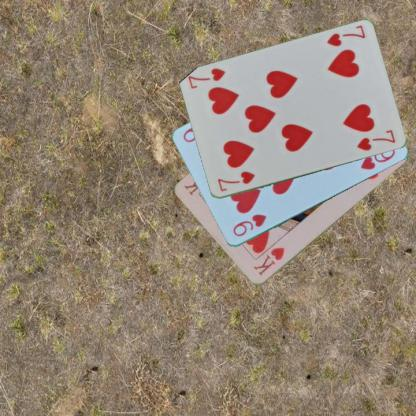7h: (324, 23, 366, 48), (215, 169, 256, 193)
9h: (230, 212, 268, 238)
Kh: (251, 244, 286, 277)
